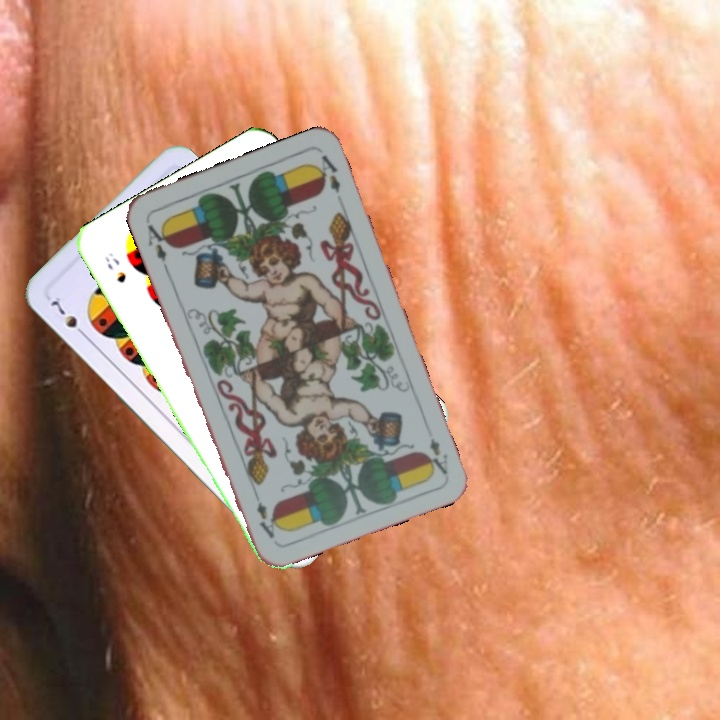EA: (143, 219, 173, 274), (421, 434, 451, 477)
S7: (46, 292, 90, 341)
S8: (100, 248, 129, 286)
